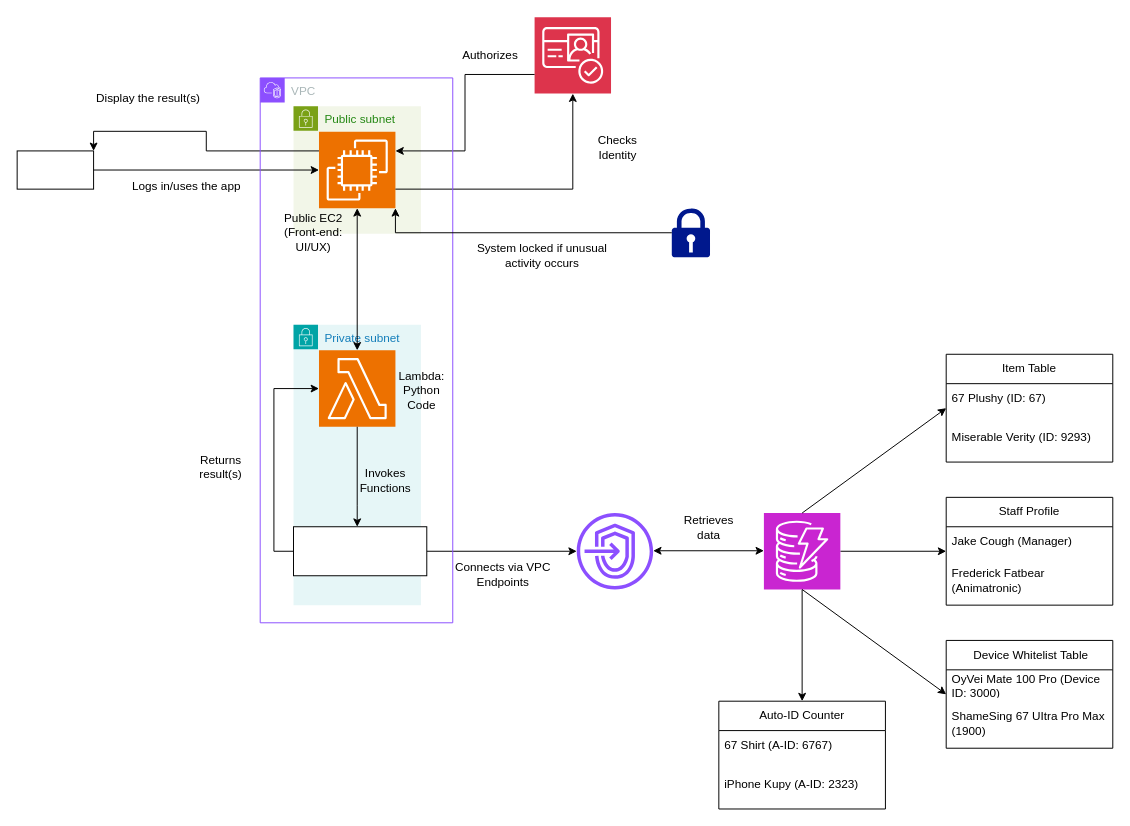
Some shapes in this 1130 by 826 pixel diagram are drawn without their labels. Each missing label, with the centre of its shape:
Python Code (Sort, Assign ID, Whitelist Check, Search): the point at 360,551
Warehouse Staff: the point at 55,169
